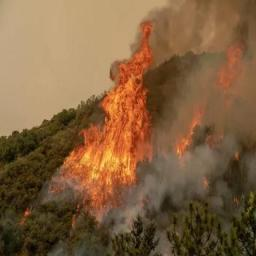Heavy smoke: (102, 0, 253, 246)
Medium fire: (31, 11, 176, 242)
